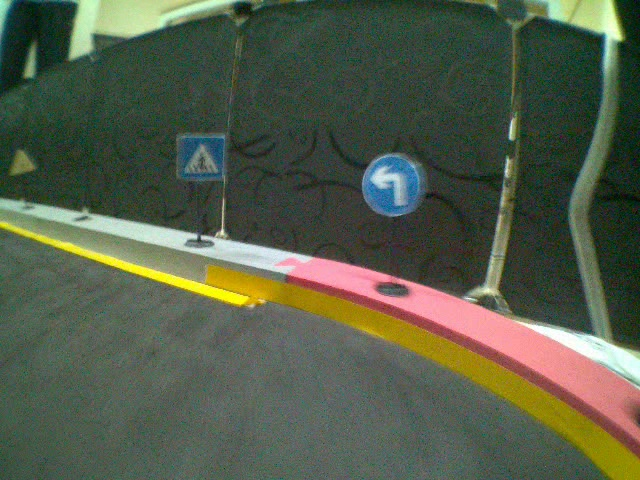crossing: (175, 134, 225, 181)
turn: (360, 152, 423, 217)
